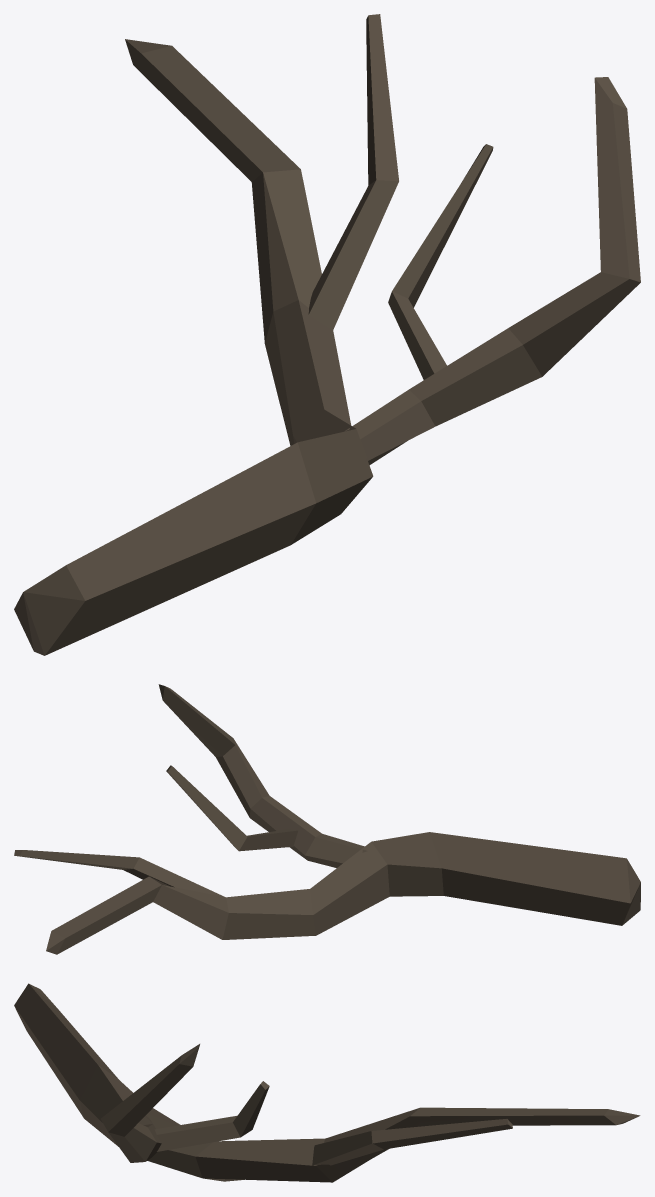
The model's file is SM_Env_Branch_01.obj.
The picture shows the model from 3 angles, top to bottom: view 1: azimuth 30°, elevation 25°; view 2: azimuth 150°, elevation 25°; view 3: azimuth 270°, elevation 25°; orthographic projection. The views are drawn at different scales.
Visible parts, largest first — view 1: SM_Env_Branch_01_0; view 2: SM_Env_Branch_01_0; view 3: SM_Env_Branch_01_0.
Boxes of the visible parts, x1=… form: SM_Env_Branch_01_0: x1=14, y1=14, x2=640, y2=655; SM_Env_Branch_01_0: x1=14, y1=684, x2=640, y2=954; SM_Env_Branch_01_0: x1=14, y1=983, x2=640, y2=1182.
Size of the model in its own units: 1.07 by 0.4981 by 1.25.
Materials: 1 (1 with a texture image).
